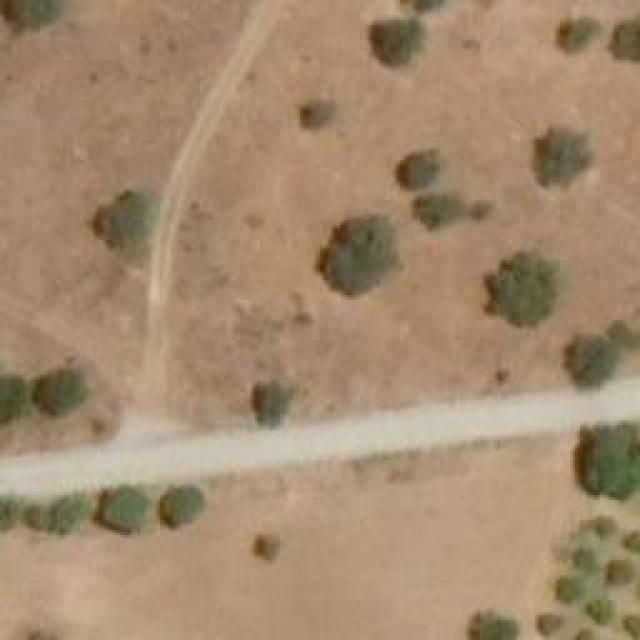Tree: (485, 253, 558, 328), (325, 218, 403, 288), (93, 190, 156, 255), (530, 127, 590, 195), (585, 423, 640, 493), (560, 334, 621, 394), (370, 18, 418, 71), (248, 382, 298, 430), (35, 368, 80, 413), (98, 488, 143, 533), (393, 153, 443, 193), (0, 372, 33, 431), (163, 488, 206, 533), (415, 192, 455, 230), (607, 17, 640, 62), (295, 100, 333, 138), (55, 492, 93, 530), (470, 612, 518, 640), (0, 0, 52, 25), (560, 18, 598, 51), (0, 493, 20, 536), (563, 548, 593, 573), (467, 194, 492, 223), (608, 560, 633, 588), (552, 578, 580, 603), (25, 500, 45, 530), (260, 538, 283, 563), (590, 515, 613, 538), (535, 613, 558, 636), (622, 527, 640, 555), (588, 600, 613, 620), (622, 610, 640, 635)
